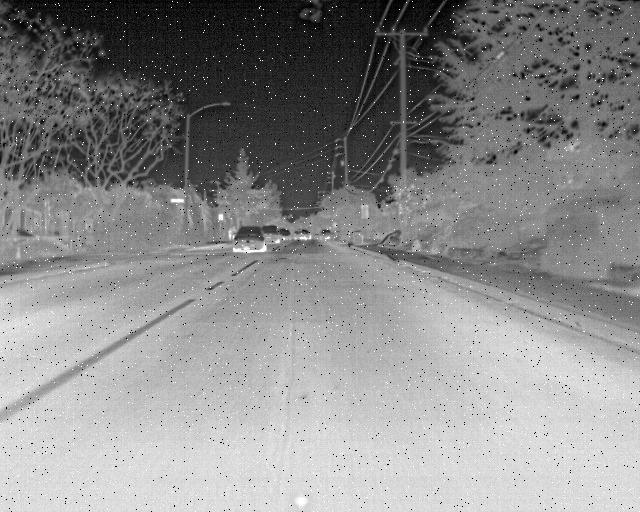car: (231, 221, 269, 259), (254, 218, 280, 251), (293, 220, 319, 251), (270, 220, 294, 250)
light: (200, 95, 254, 122)
